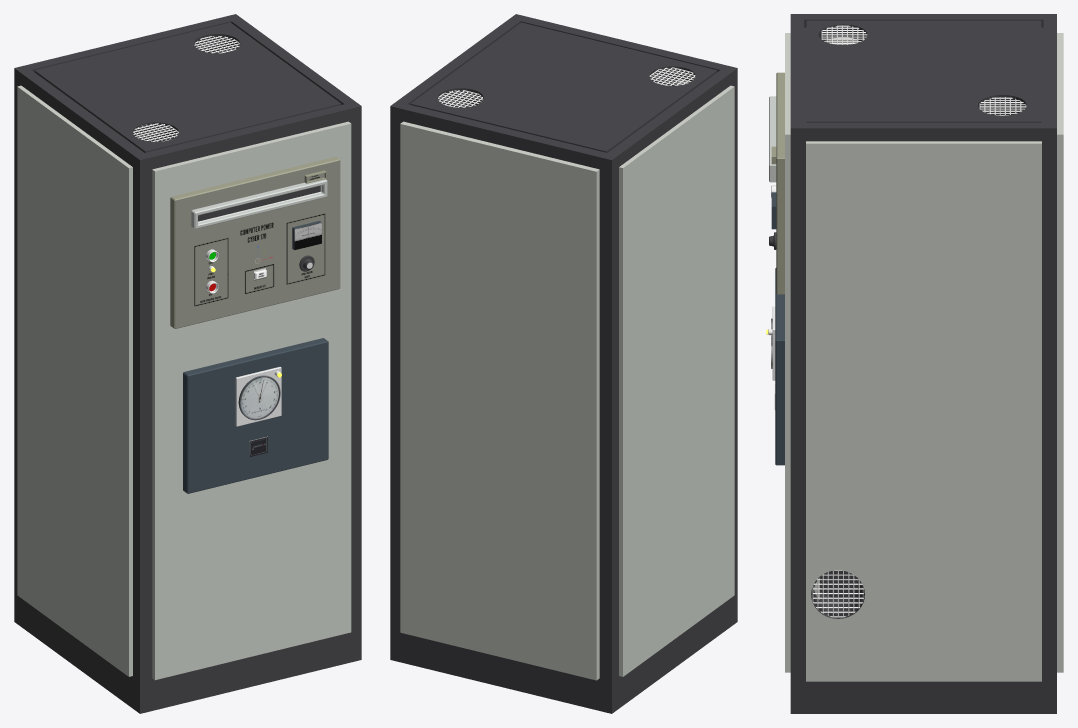
The model's file is a-opt-power-control.glb.
3 views of the same model, side by side, from view 1: azimuth 30°, elevation 25°; view 2: azimuth 150°, elevation 25°; view 3: azimuth 270°, elevation 25° (orthographic). The views are drawn at different scales.
Visible parts, largest first — view 1: PowerControl; view 2: PowerControl; view 3: PowerControl.
Part boxes in pixels (<box>): PowerControl: <box>14,14,361,713</box>; PowerControl: <box>390,14,737,713</box>; PowerControl: <box>766,14,1063,713</box>.
Bounding box in the file's own units: 0.8055 × 1.85 × 0.8516.
11 materials, 11 textured.
